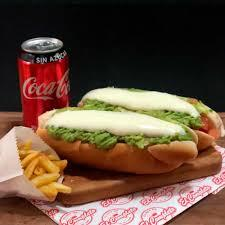Completos: (36, 108, 200, 173), (84, 84, 225, 151)
